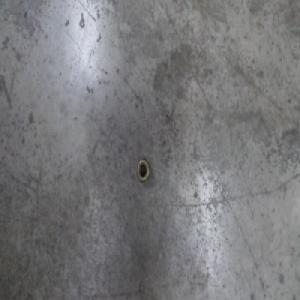Nut: (136, 157, 150, 184)
